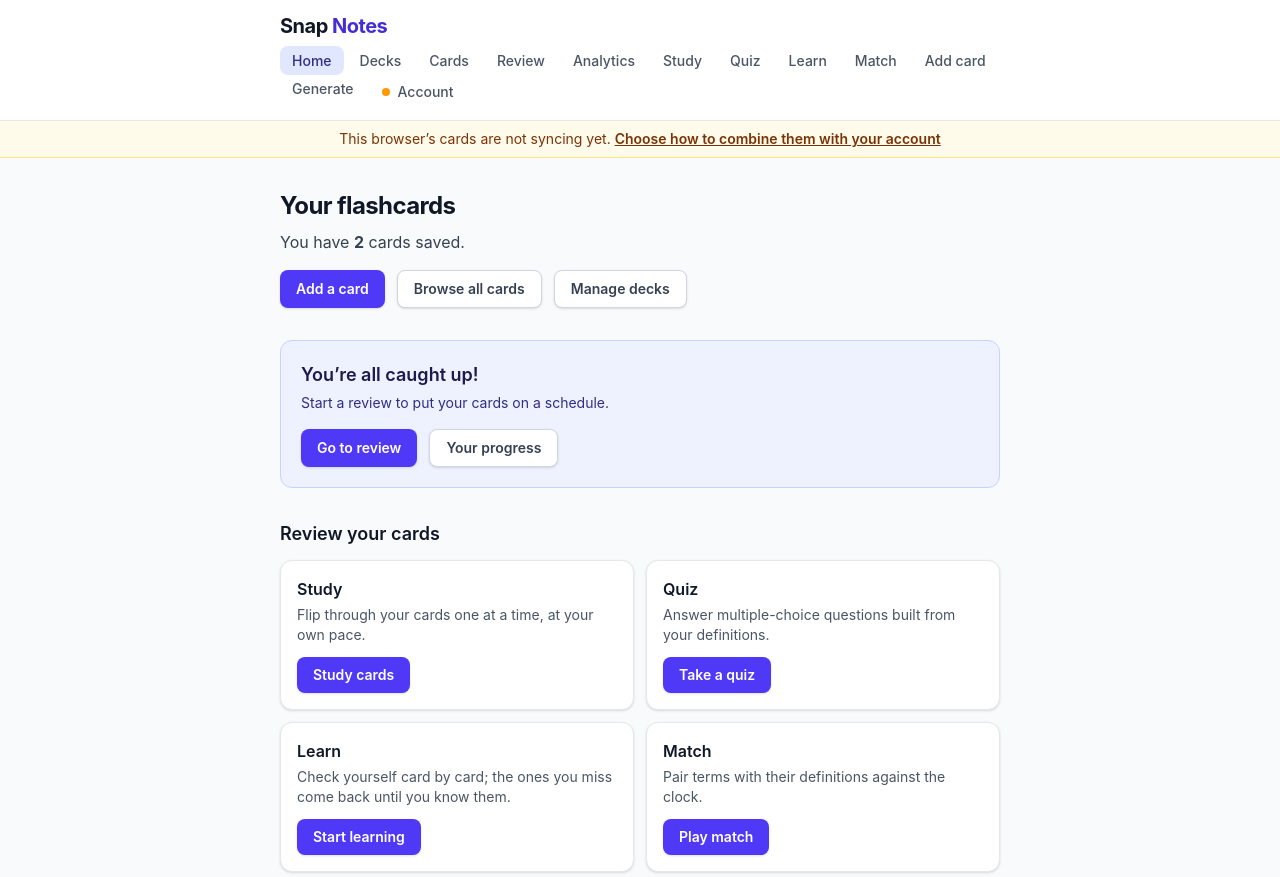
Test case: linking a browser that already has cards › asks before combining, then keeps everything from both without duplicates
Click the link "Choose how to combine them with your account": click(778, 138) left=615, top=130, right=941, bottom=147
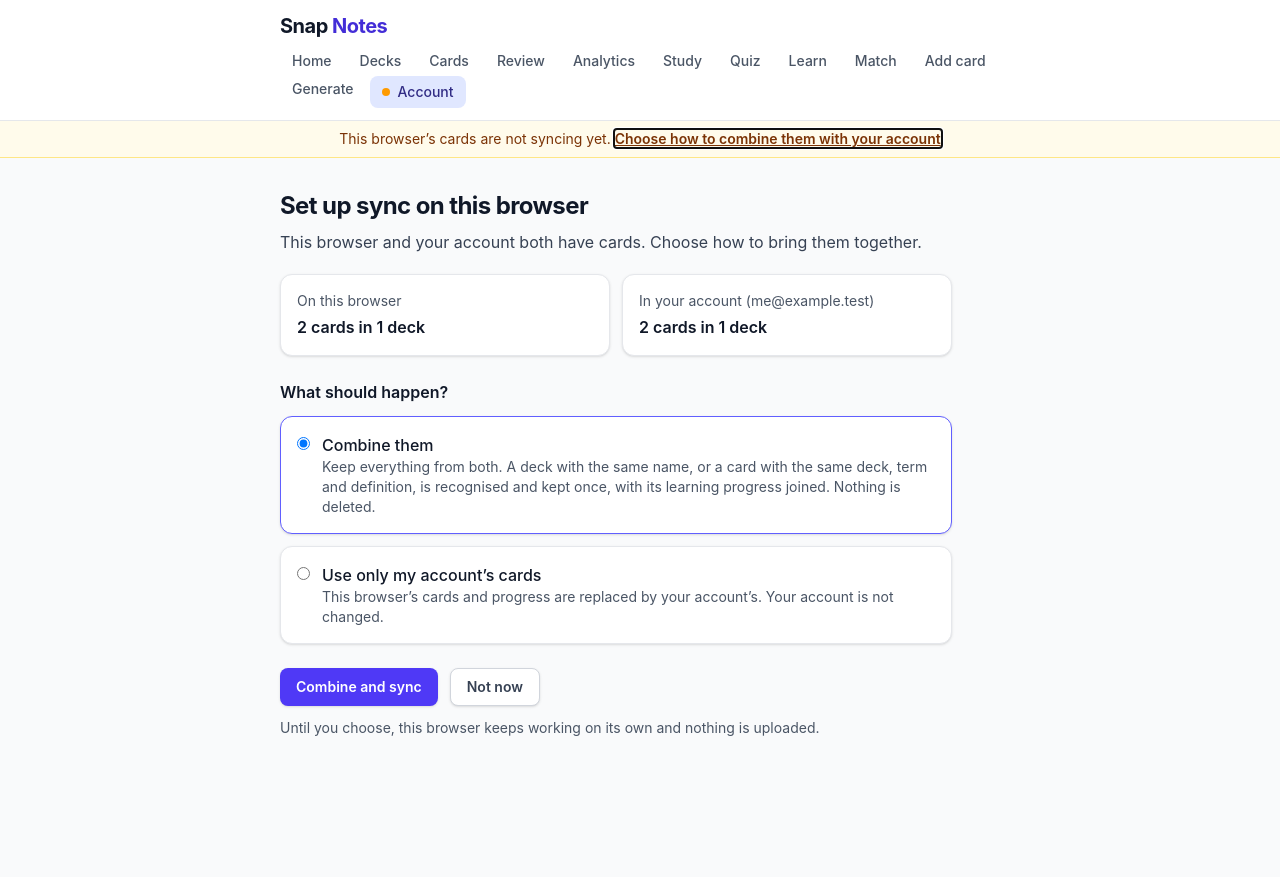
Now the text "2 cards in 1 deck" is shown 2 times, box left=297, top=317, right=425, bottom=337; left=639, top=317, right=767, bottom=337
Now the radio button labelled "Combine them" is checked, box left=297, top=437, right=310, bottom=450
Click the button "Combine and sync": click(359, 687) left=280, top=668, right=438, bottom=706
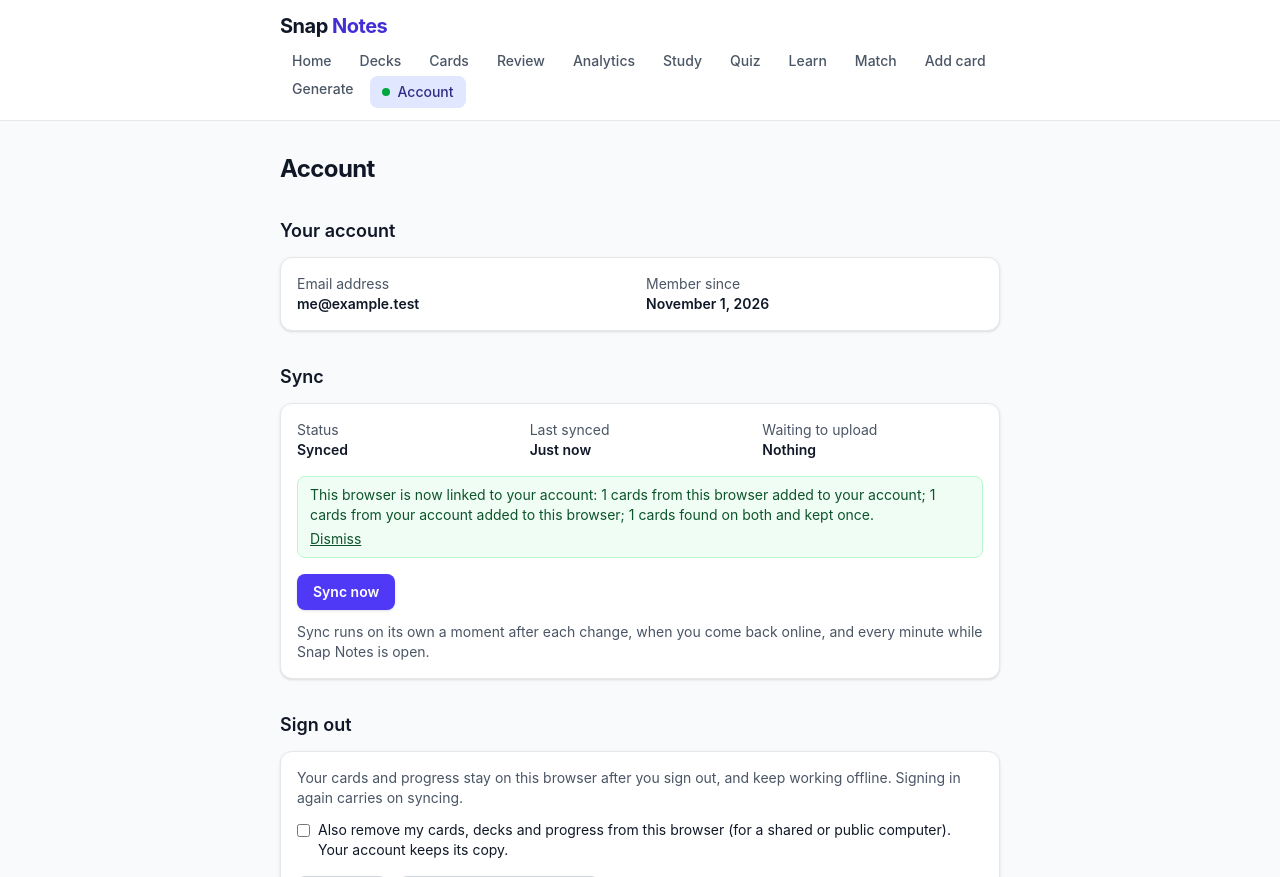
Now the text "1 cards found on both and kept once" is shown, box left=310, top=486, right=935, bottom=523
